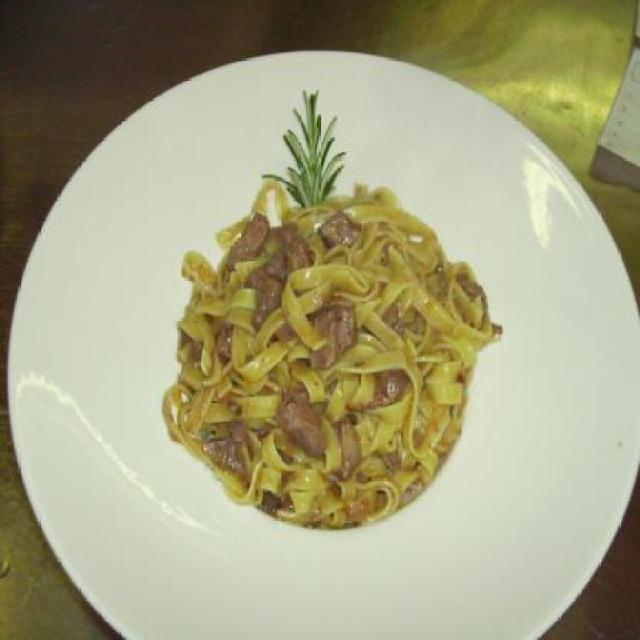Pasta al ragu: (141, 141, 534, 544)
